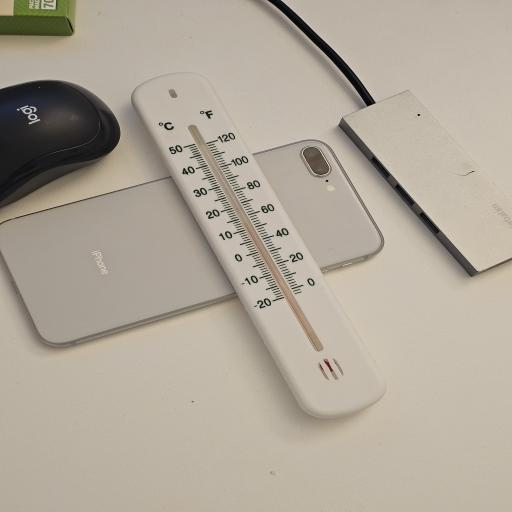thermometer: (124, 62, 399, 430)
